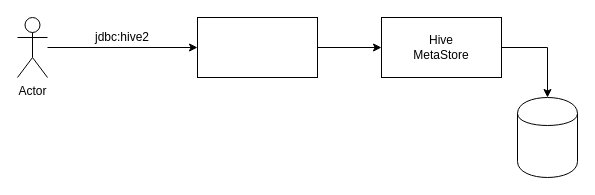
Some shapes in this 595 by 195 pixel diagram are drawn without their labels. Each missing label, with the box of its shape:
MySql: (516, 96, 578, 178)
Spark Thrift Server: (196, 16, 318, 78)
